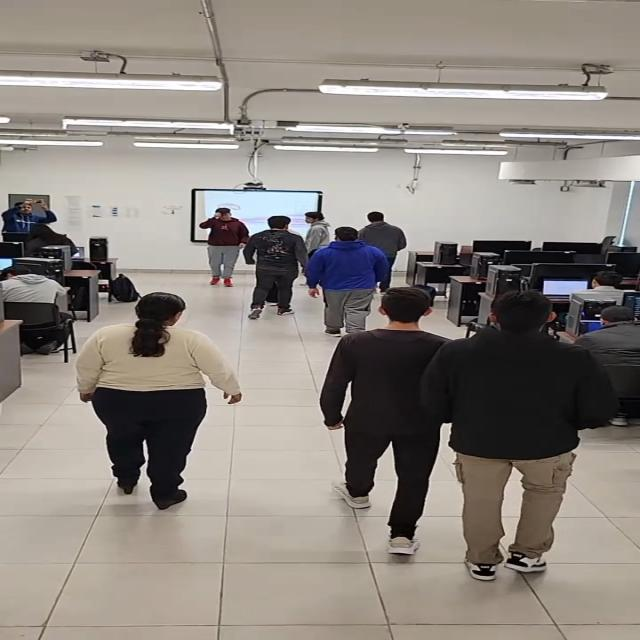Persona: (451, 293, 596, 582), (330, 284, 431, 557), (81, 288, 205, 507), (320, 227, 378, 310), (255, 214, 296, 315), (200, 203, 248, 283), (363, 212, 412, 263), (2, 198, 56, 233), (301, 209, 332, 249)
